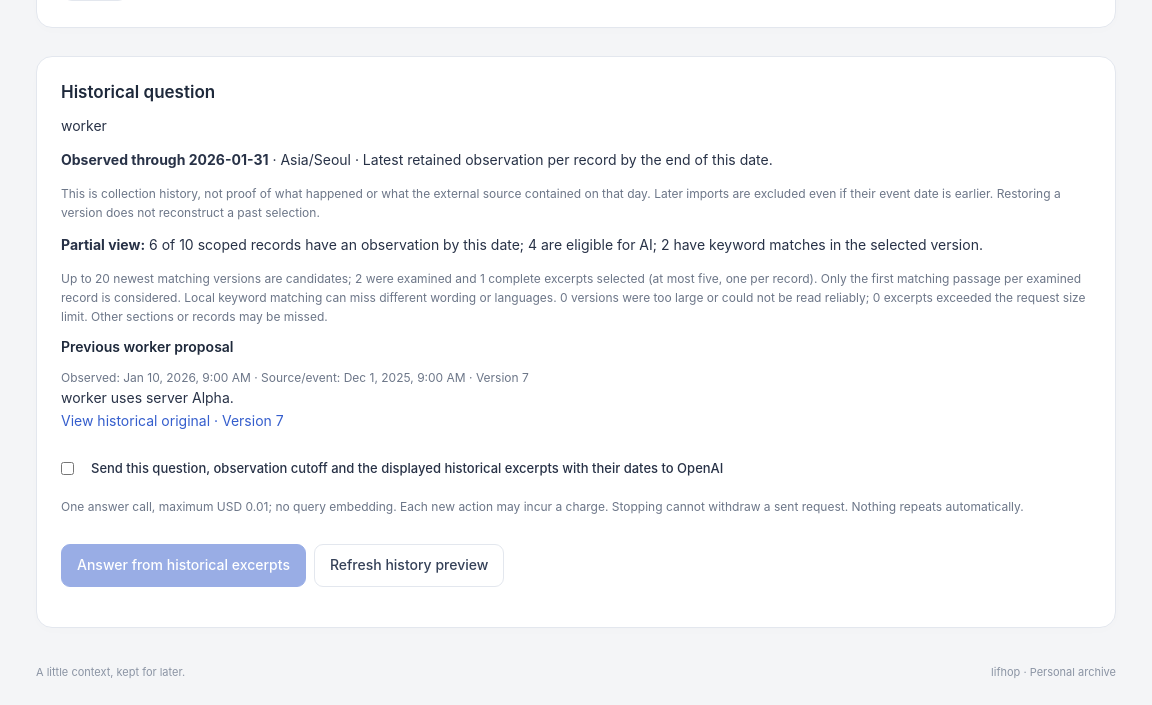
Test: shows insufficient support with no result citation
The width and height of the screenshot is (1152, 705).
(page scrolled)
Check: the button "Answer from historical excerpts" is shown, box x1=61 y1=544 x2=306 y2=587
Click the checkbox named "Send this question, observation cutoff and the displayed historical excerpts with their dates to OpenAI": {"x": 68, "y": 469} x1=61 y1=460 x2=74 y2=477
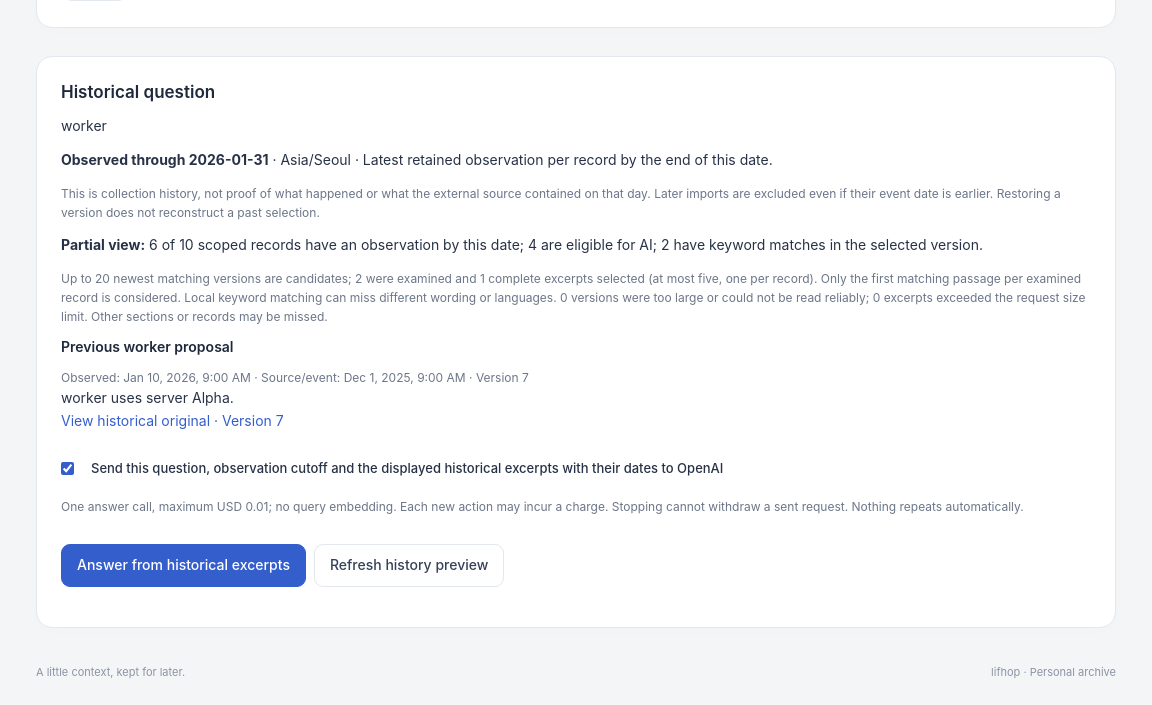
Click the button "Answer from historical excerpts": {"x": 183, "y": 565} x1=61 y1=544 x2=306 y2=587
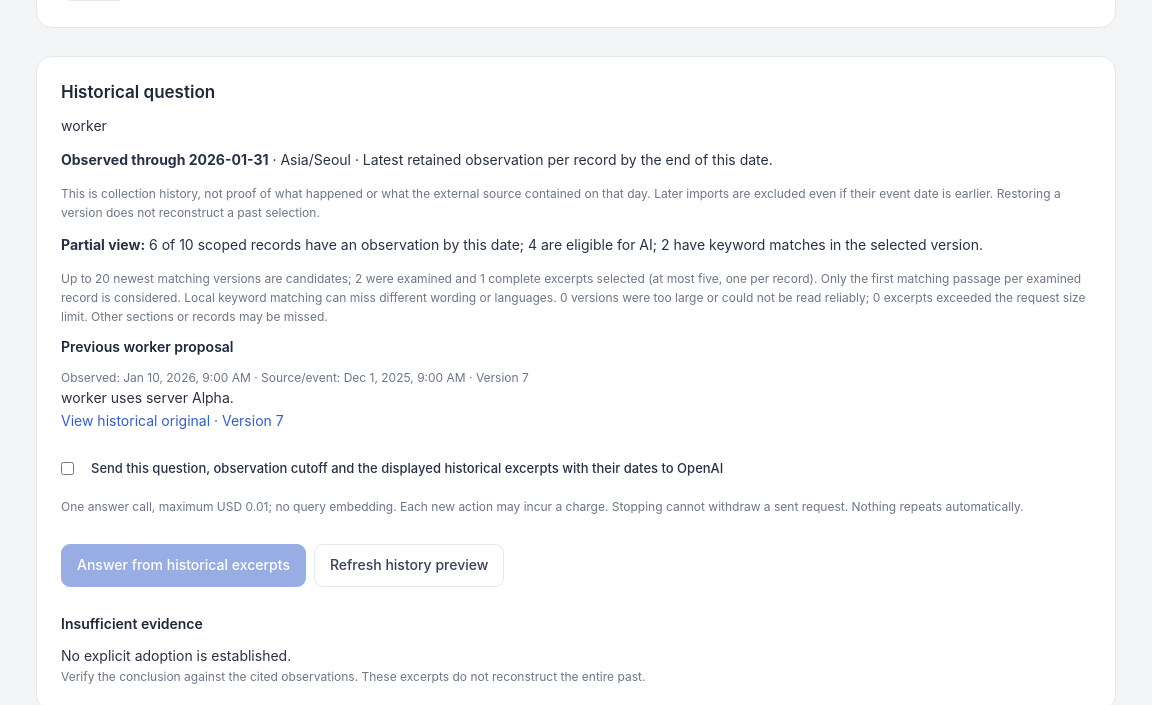
Check: the text "No explicit adoption is established." is shown, box x1=61 y1=647 x2=291 y2=664
Check: the heading "Insufficient evidence" is shown, box x1=61 y1=615 x2=203 y2=632
